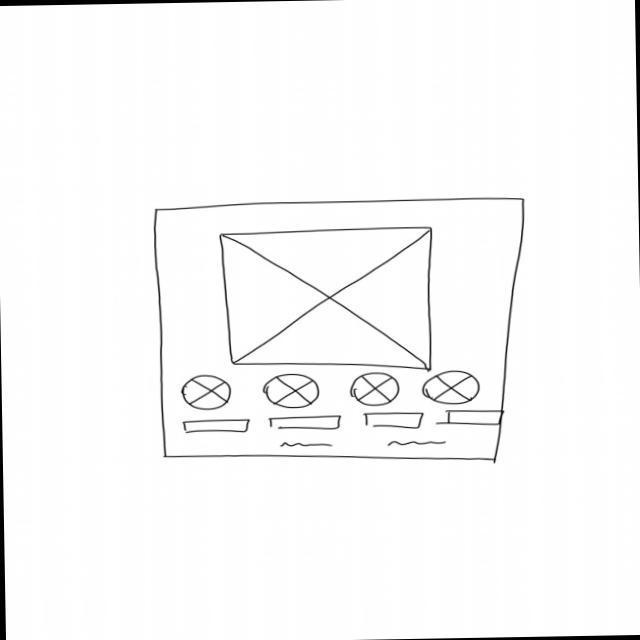container: (151, 196, 531, 468)
image: (220, 226, 436, 373), (422, 370, 481, 406), (263, 374, 321, 410), (181, 374, 233, 411), (350, 372, 402, 407)
input: (267, 415, 345, 432), (364, 411, 427, 431), (183, 419, 252, 436), (442, 410, 505, 427)
text: (383, 440, 449, 448), (279, 440, 336, 449)
